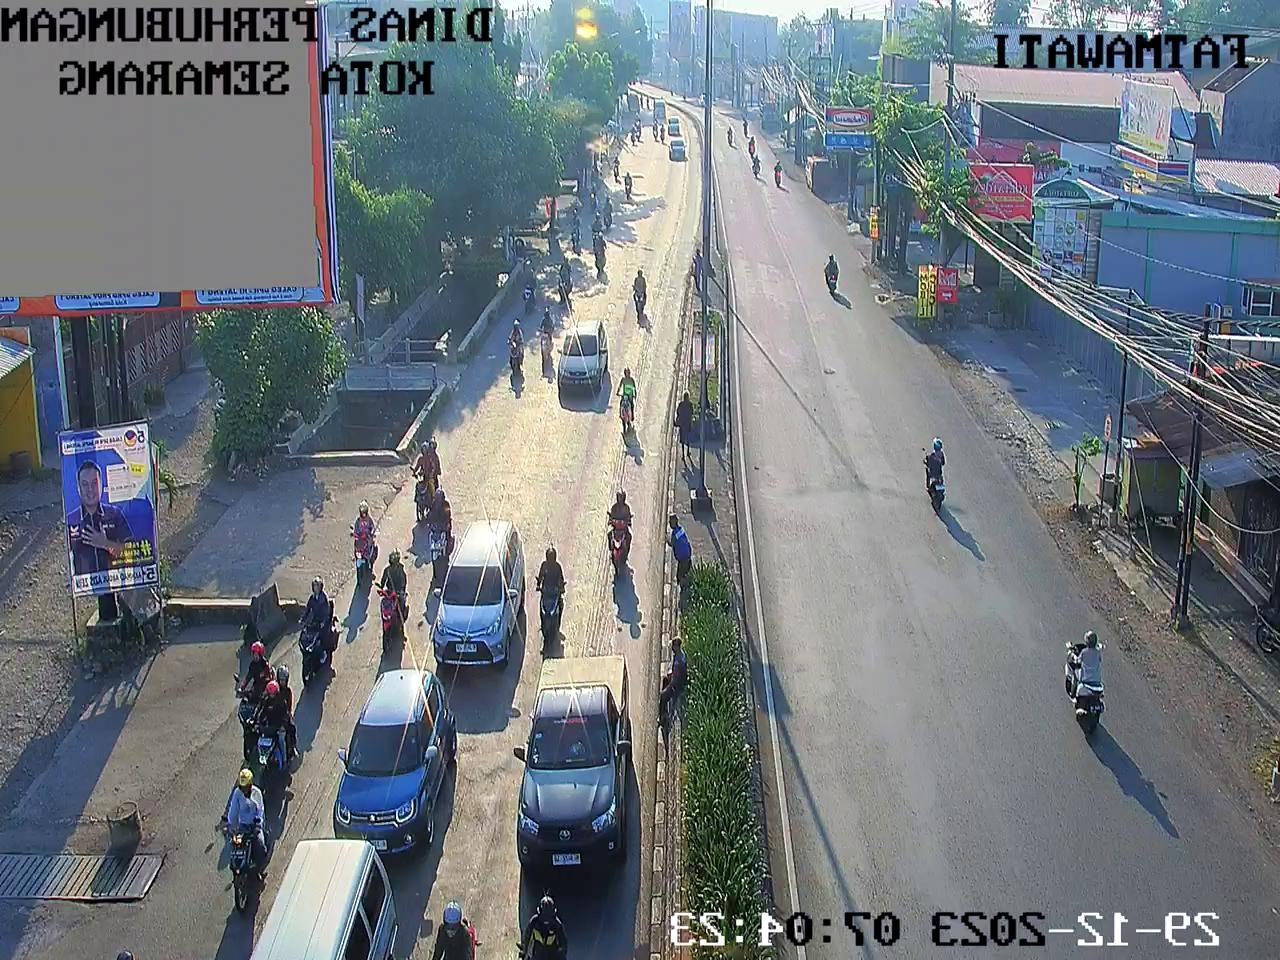car: (504, 659, 648, 866), (229, 842, 406, 960), (342, 663, 450, 845), (423, 520, 528, 665), (539, 319, 614, 415), (668, 138, 686, 163), (650, 101, 668, 122), (668, 118, 680, 139), (628, 90, 638, 113)
motorcycle: (207, 773, 267, 903), (245, 684, 299, 800), (286, 583, 342, 674), (237, 638, 274, 756), (513, 898, 579, 953), (372, 561, 415, 640), (418, 898, 473, 960), (400, 440, 445, 510), (533, 550, 566, 645), (418, 493, 456, 566), (530, 301, 569, 360), (348, 502, 376, 584), (611, 271, 649, 328), (611, 487, 635, 572), (511, 257, 540, 315), (542, 255, 573, 309), (611, 370, 641, 424), (499, 318, 522, 377), (594, 193, 614, 233), (99, 942, 140, 960), (567, 211, 584, 257), (586, 212, 609, 243), (588, 233, 604, 271), (644, 117, 667, 140), (618, 174, 635, 205), (655, 126, 670, 145), (623, 129, 635, 148), (633, 125, 642, 144), (643, 96, 651, 112), (633, 115, 642, 127), (639, 95, 645, 109)
